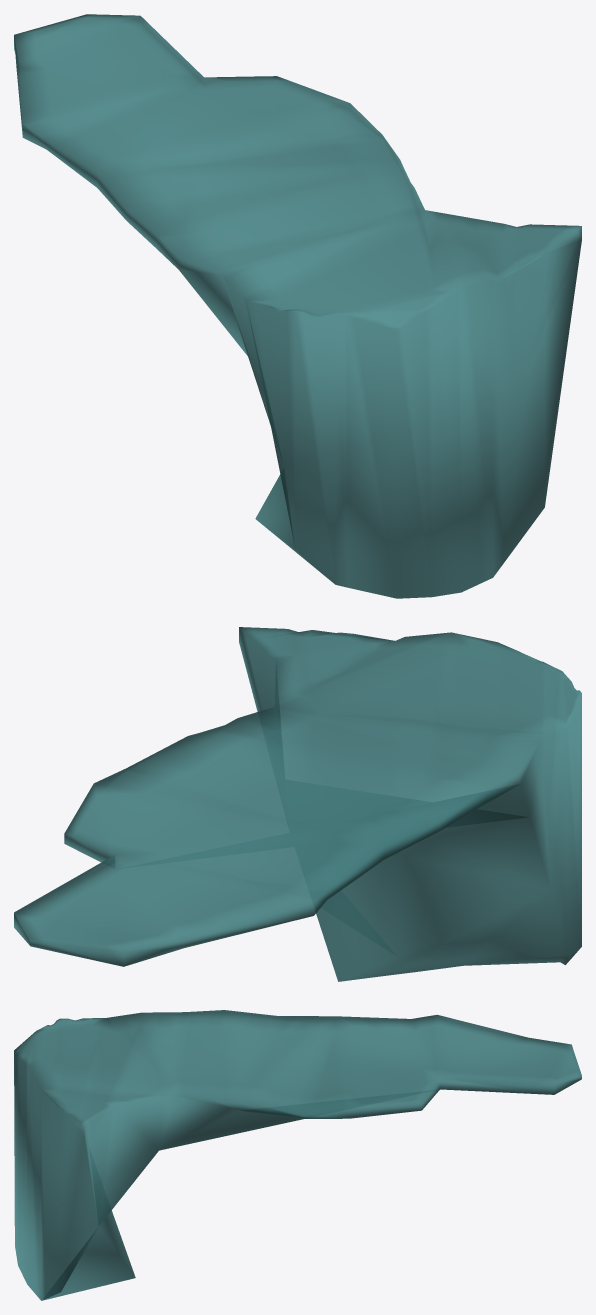
The model's file is Wellenversuch101.fbx.
3 views of the same model, one above another, from view 1: azimuth 30°, elevation 25°; view 2: azimuth 150°, elevation 25°; view 3: azimuth 270°, elevation 25° (orthographic). The views are drawn at different scales.
Parts seen in each view (by area): view 1: Wasser Alpha; view 2: Wasser Alpha; view 3: Wasser Alpha.
Boxes of the visible parts, left/top/right/bottom form: Wasser Alpha: left=14, top=14, right=581, bottom=598; Wasser Alpha: left=14, top=627, right=581, bottom=981; Wasser Alpha: left=14, top=1010, right=581, bottom=1300.
Size of the model in its own units: 1371 by 1204 by 2806.
